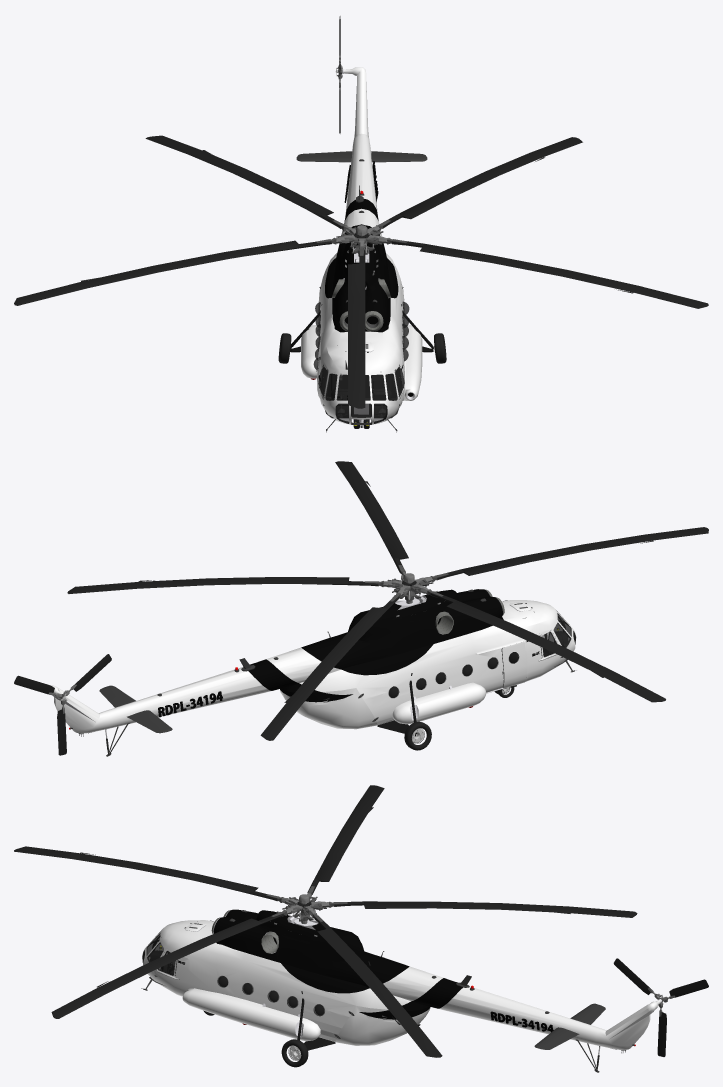
3 views of the same model, one above another, from view 1: azimuth 30°, elevation 25°; view 2: azimuth 150°, elevation 25°; view 3: azimuth 270°, elevation 25° (orthographic). The views are drawn at different scales.
Visible parts, largest first — view 1: object 14, object 18, glass; view 2: object 14, object 18, object 15, glass, object 33, object 1, Gruppe#12, RDPL-34194; view 3: object 14, object 18, object 15, glass, object 1, Gruppe#12.
Boxes of the visible parts, x1,y1,x2,y2 form: object 14: (296, 67, 427, 432); object 18: (14, 135, 708, 408); glass: (318, 328, 404, 425); object 14: (51, 589, 577, 756); object 18: (67, 461, 708, 740); object 15: (14, 654, 111, 755); glass: (389, 610, 575, 697); object 33: (502, 642, 526, 688); object 1: (388, 652, 519, 698); Gruppe#12: (404, 721, 431, 750); RDPL-34194: (158, 691, 222, 717); object 14: (141, 909, 662, 1072); object 18: (14, 785, 637, 1057); object 15: (613, 958, 708, 1056); glass: (142, 931, 323, 1015); object 1: (217, 975, 324, 1016); Gruppe#12: (281, 1039, 308, 1067).
Bounding box in the file's own units: 50.71 × 12.72 × 55.53.
Materials: 22 (3 with a texture image).
